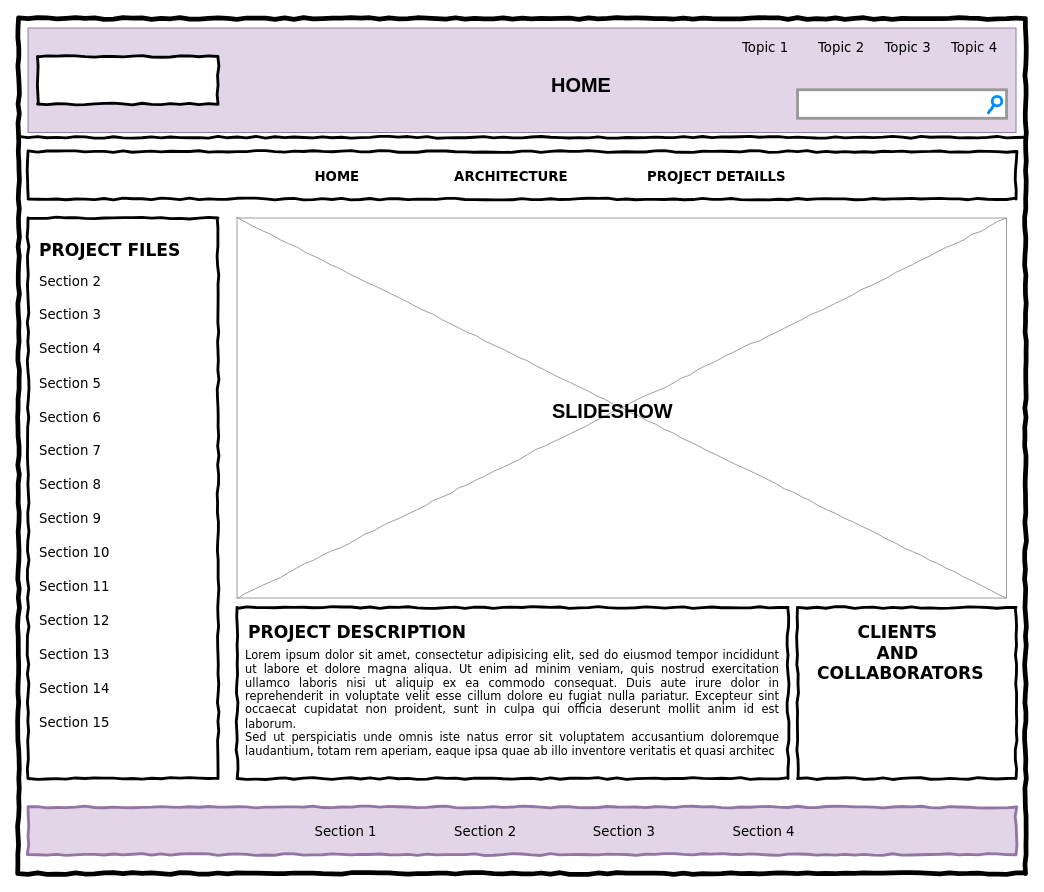
Image size: 1044x892. Some labels were removed from this diagram. The box of each missing label's shape, as (x1, y1, x2, y2) in pixels:
LOGO: (36, 55, 219, 105)
Search: (796, 88, 1007, 119)
